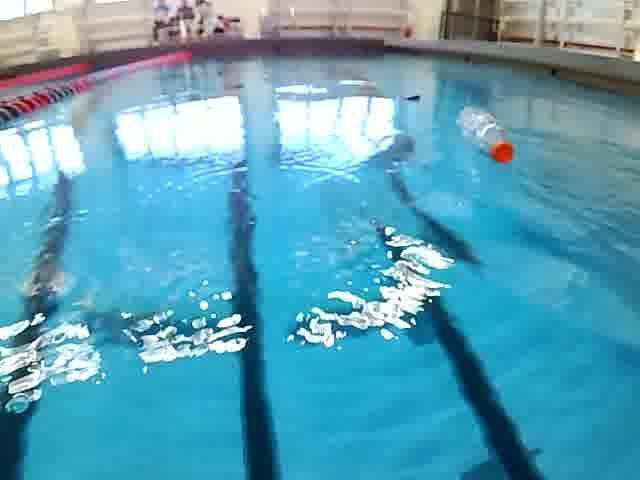Bottle: (452, 104, 520, 166)
